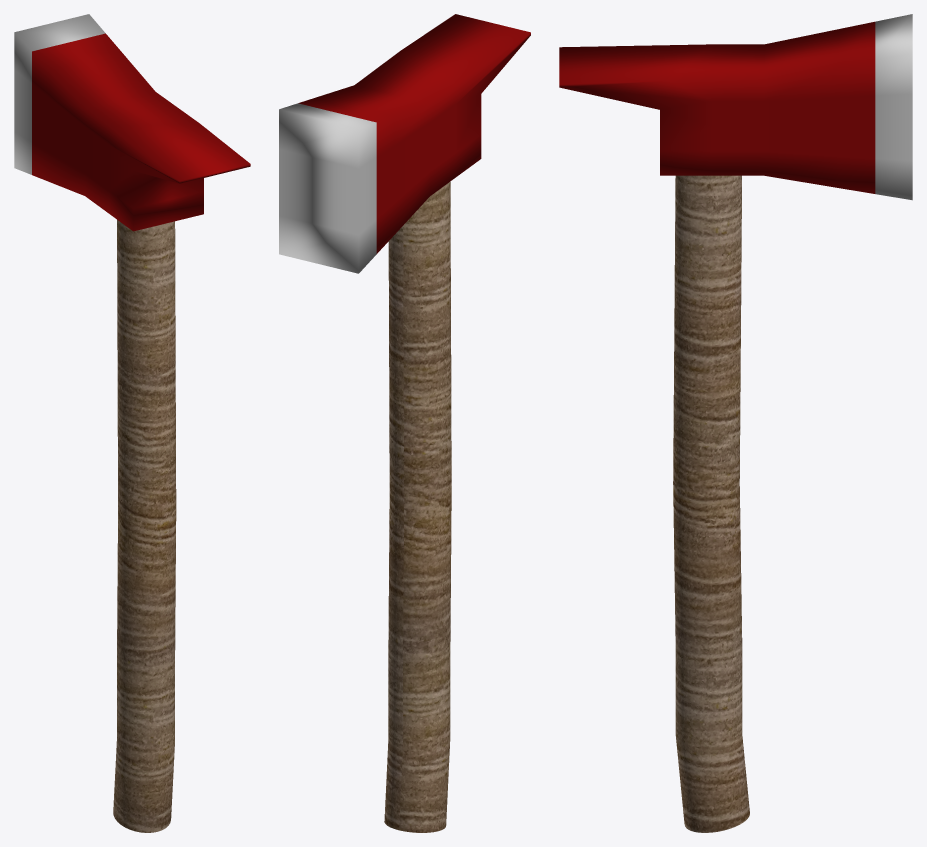
File: axe.obj
3 views of the same model, side by side, from view 1: azimuth 30°, elevation 25°; view 2: azimuth 150°, elevation 25°; view 3: azimuth 270°, elevation 25° (orthographic). The views are drawn at different scales.
Visible parts, largest first — view 1: Cylinder, Cube, Cube.001; view 2: Cylinder, Cube, Cube.001; view 3: Cylinder, Cube, Cube.001.
Boxes of the visible parts, bbox=[...] form: Cylinder: bbox=[113, 220, 176, 832]; Cube: bbox=[32, 33, 250, 231]; Cube.001: bbox=[14, 14, 105, 174]; Cylinder: bbox=[384, 182, 451, 832]; Cube: bbox=[298, 14, 530, 253]; Cube.001: bbox=[279, 103, 376, 273]; Cylinder: bbox=[673, 175, 749, 832]; Cube: bbox=[559, 21, 875, 193]; Cube.001: bbox=[875, 14, 912, 200].
Size of the model in its own units: 0.108 by 1.01 by 0.4087.
